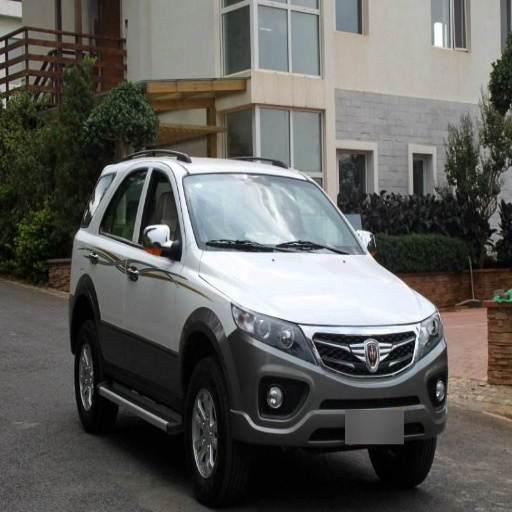front_bumper: (224, 315, 447, 449)
front_right_door: (125, 164, 183, 403)
front_right_light: (233, 306, 301, 353)
hood: (202, 251, 434, 325)
